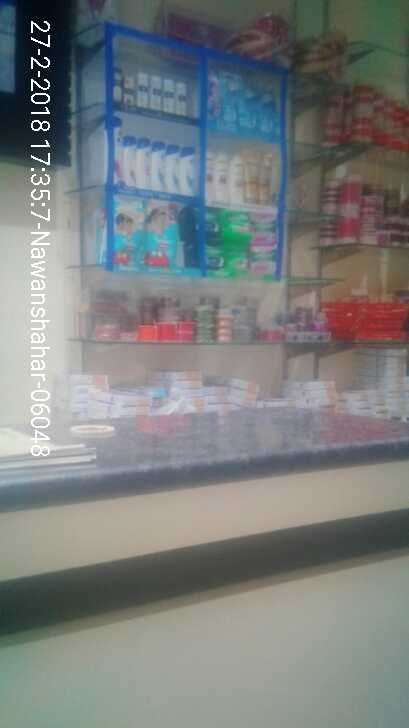venus: (219, 75, 240, 127), (258, 90, 281, 131), (241, 79, 257, 128)
